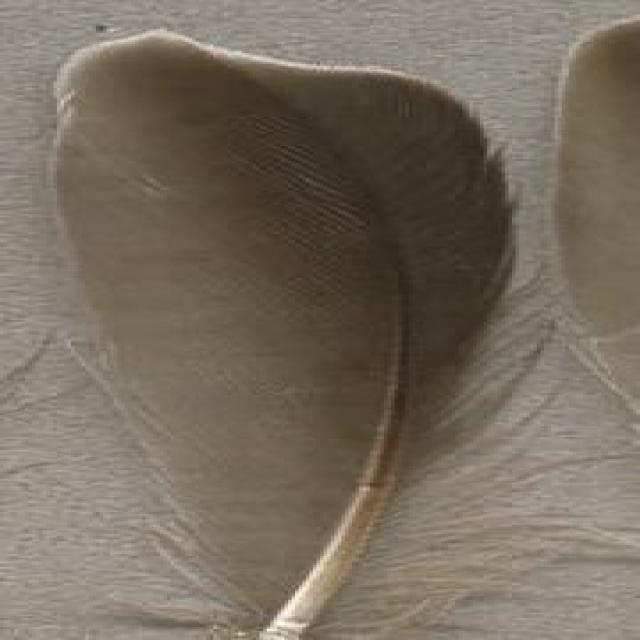feather: (53, 36, 533, 640)
